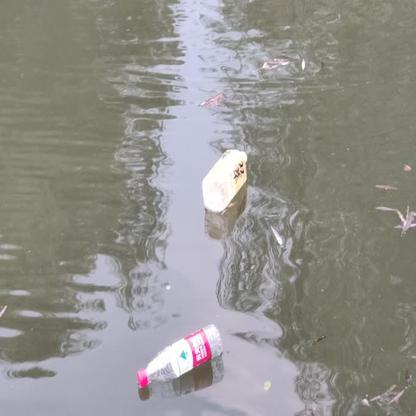plastic bottle: (137, 325, 224, 387), (201, 148, 249, 213)
